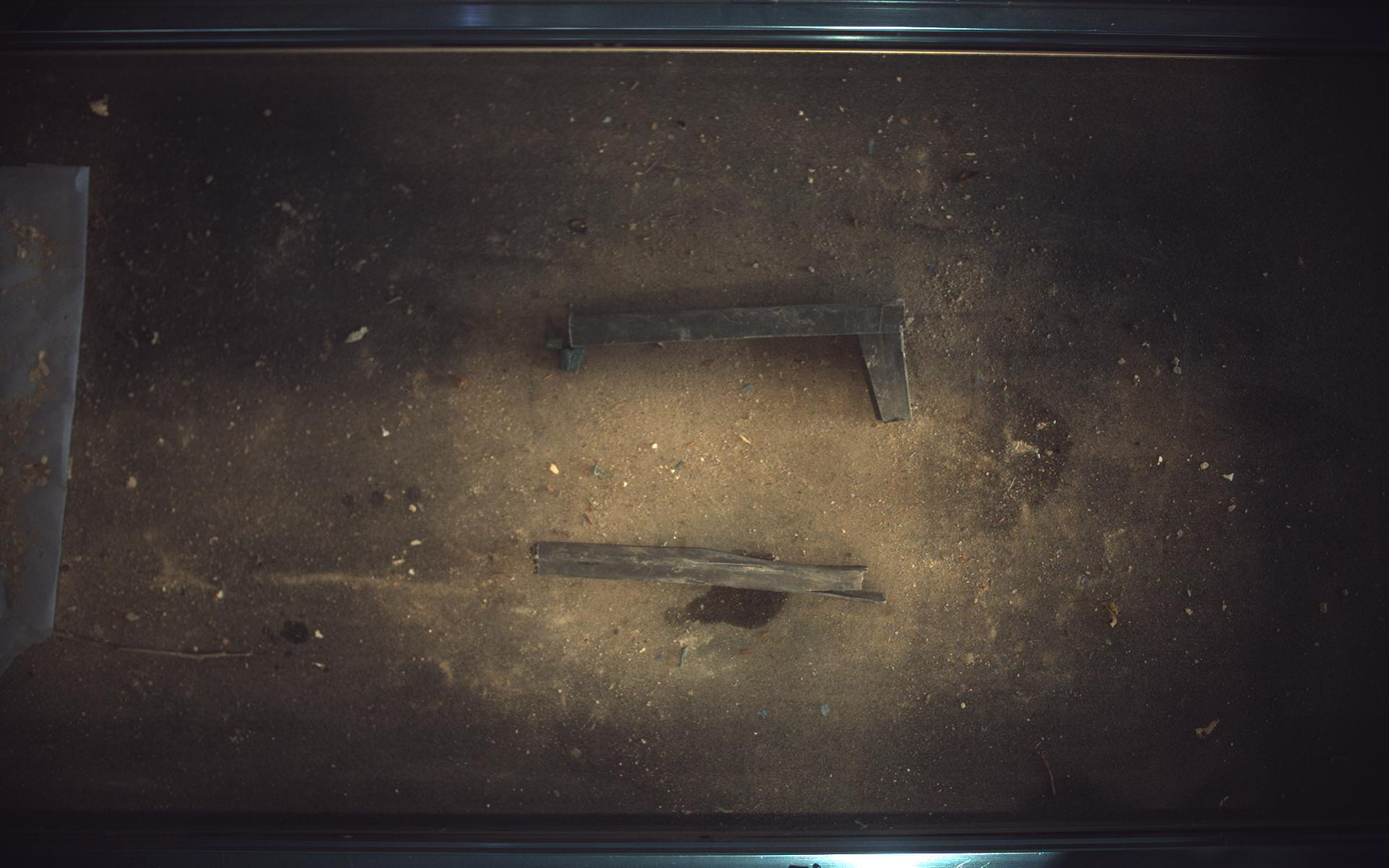plastic: (547, 275, 912, 422), (535, 542, 887, 603)
